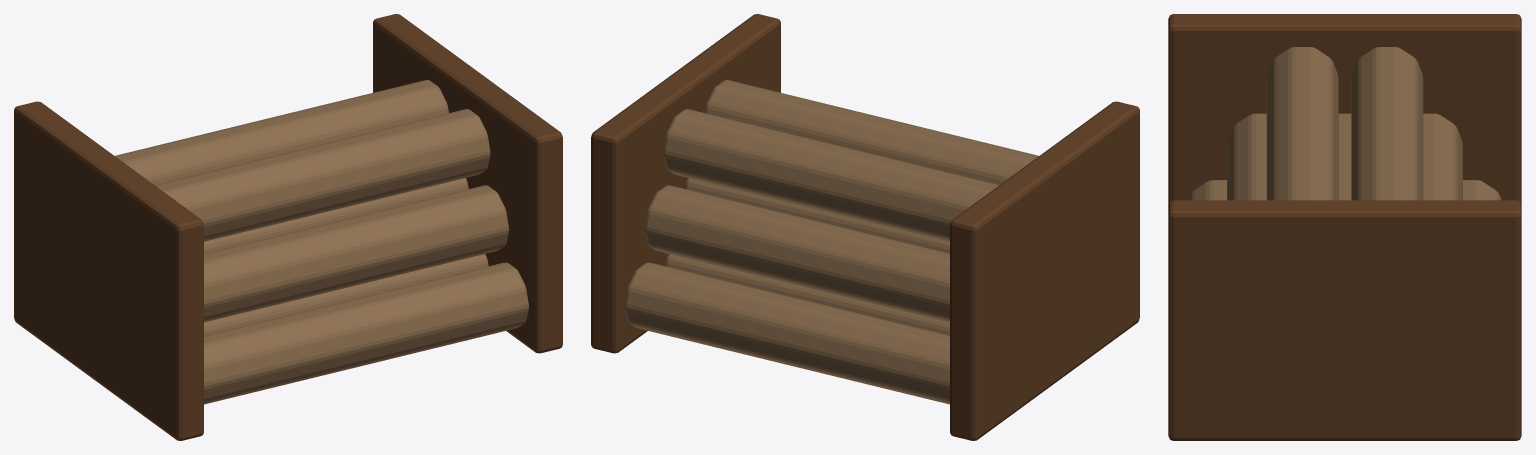
The model's file is woodpile_1p5.glb.
3 renders of one model, left to right at view 1: azimuth 30°, elevation 25°; view 2: azimuth 150°, elevation 25°; view 3: azimuth 270°, elevation 25°, orthographic. The views are drawn at different scales.
Parts seen in each view (by area): view 1: woodpile_left_stop, woodpile_log_01, woodpile_right_stop, woodpile_log_05, woodpile_log_08, woodpile_log_09, woodpile_log_02, woodpile_log_06; view 2: woodpile_left_stop, woodpile_log_04, woodpile_right_stop, woodpile_log_07, woodpile_log_09, woodpile_log_08, woodpile_log_03, woodpile_log_06; view 3: woodpile_right_stop, woodpile_left_stop, woodpile_log_08, woodpile_log_09, woodpile_log_05, woodpile_log_07, woodpile_log_06, woodpile_log_01, woodpile_log_04.
Part boxes in pixels (x1,y1,x2,y2): woodpile_left_stop: (14, 101, 203, 440); woodpile_log_01: (204, 262, 528, 404); woodpile_right_stop: (373, 14, 562, 353); woodpile_log_05: (204, 185, 508, 322); woodpile_log_08: (154, 109, 490, 241); woodpile_log_09: (115, 80, 448, 184); woodpile_log_02: (204, 254, 488, 335); woodpile_log_06: (204, 178, 468, 253); woodpile_left_stop: (950, 101, 1139, 440); woodpile_log_04: (625, 262, 949, 404); woodpile_right_stop: (591, 14, 780, 353); woodpile_log_07: (645, 185, 949, 322); woodpile_log_09: (663, 109, 999, 241); woodpile_log_08: (705, 80, 1038, 184); woodpile_log_03: (665, 254, 949, 335); woodpile_log_06: (685, 178, 949, 253); woodpile_right_stop: (1168, 200, 1521, 440); woodpile_left_stop: (1168, 14, 1521, 204); woodpile_log_08: (1266, 47, 1338, 200); woodpile_log_09: (1351, 47, 1423, 200); woodpile_log_05: (1227, 113, 1266, 200); woodpile_log_07: (1423, 113, 1462, 200); woodpile_log_06: (1338, 113, 1351, 200); woodpile_log_01: (1188, 180, 1226, 200); woodpile_log_04: (1463, 180, 1501, 200).
Bounding box in the file's own units: 1.68 × 0.9 × 1.25.
